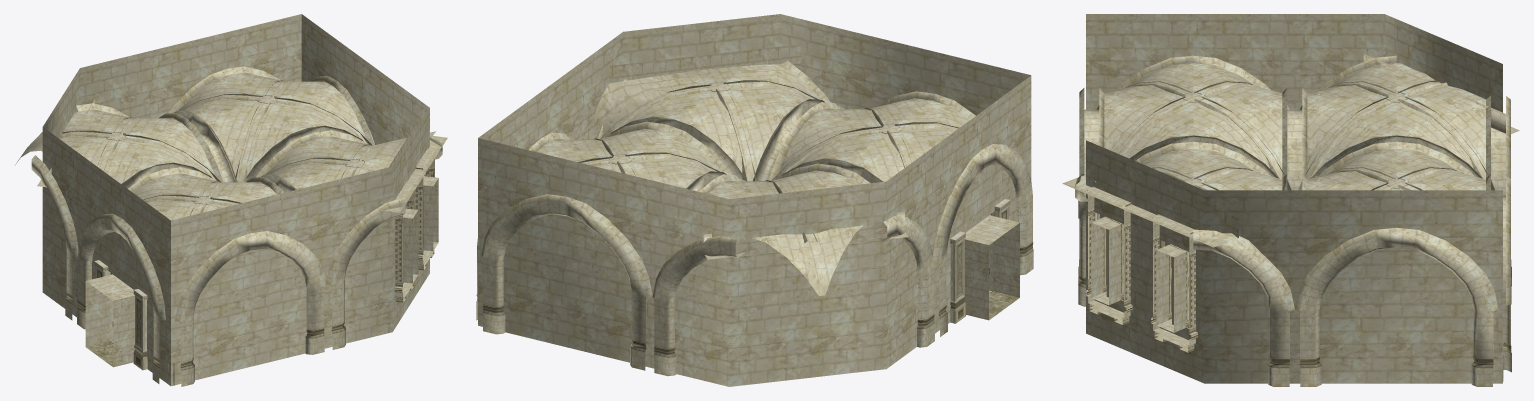
3 views of the same model, side by side, from view 1: azimuth 30°, elevation 25°; view 2: azimuth 150°, elevation 25°; view 3: azimuth 270°, elevation 25° (orthographic). The views are drawn at different scales.
Parts seen in each view (by area): view 1: Shape 6, Shape 5, Shape 4, Shape 3, Shape 2, Shape 8; view 2: Shape 6, Shape 4, Shape 3, Shape 2, Shape 8; view 3: Shape 6, Shape 5, Shape 4.
Part boxes in pixels (x1=…): Shape 6: x1=15, y1=14, x2=447, y2=386; Shape 5: x1=94, y1=150, x2=434, y2=370; Shape 4: x1=65, y1=249, x2=423, y2=370; Shape 3: x1=94, y1=260, x2=147, y2=369; Shape 2: x1=96, y1=267, x2=142, y2=349; Shape 8: x1=86, y1=339, x2=113, y2=366; Shape 6: x1=476, y1=14, x2=1033, y2=386; Shape 4: x1=476, y1=206, x2=1033, y2=357; Shape 3: x1=950, y1=199, x2=1009, y2=323; Shape 2: x1=956, y1=207, x2=1007, y2=300; Shape 8: x1=989, y1=288, x2=1019, y2=319; Shape 6: x1=1062, y1=14, x2=1519, y2=386; Shape 5: x1=1086, y1=189, x2=1197, y2=352; Shape 4: x1=1078, y1=259, x2=1511, y2=367.
Bounding box in the file's own units: 2245 × 1000 × 2147.
